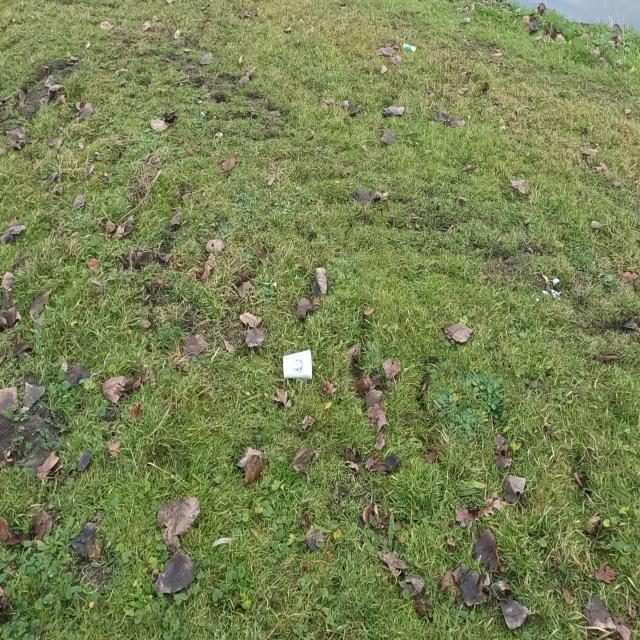Cup: (282, 348, 312, 380)
